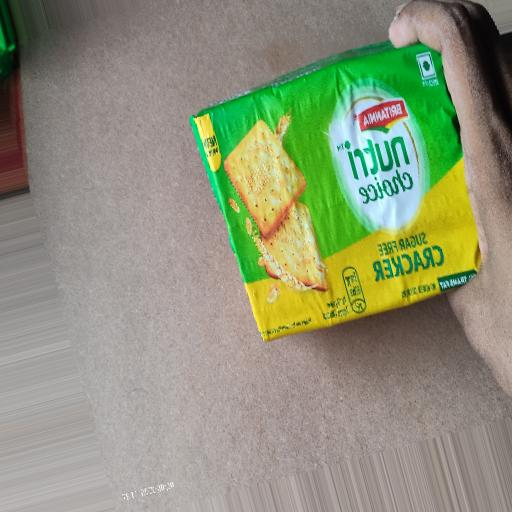Britannia Nutri-choice: (175, 23, 488, 359)
